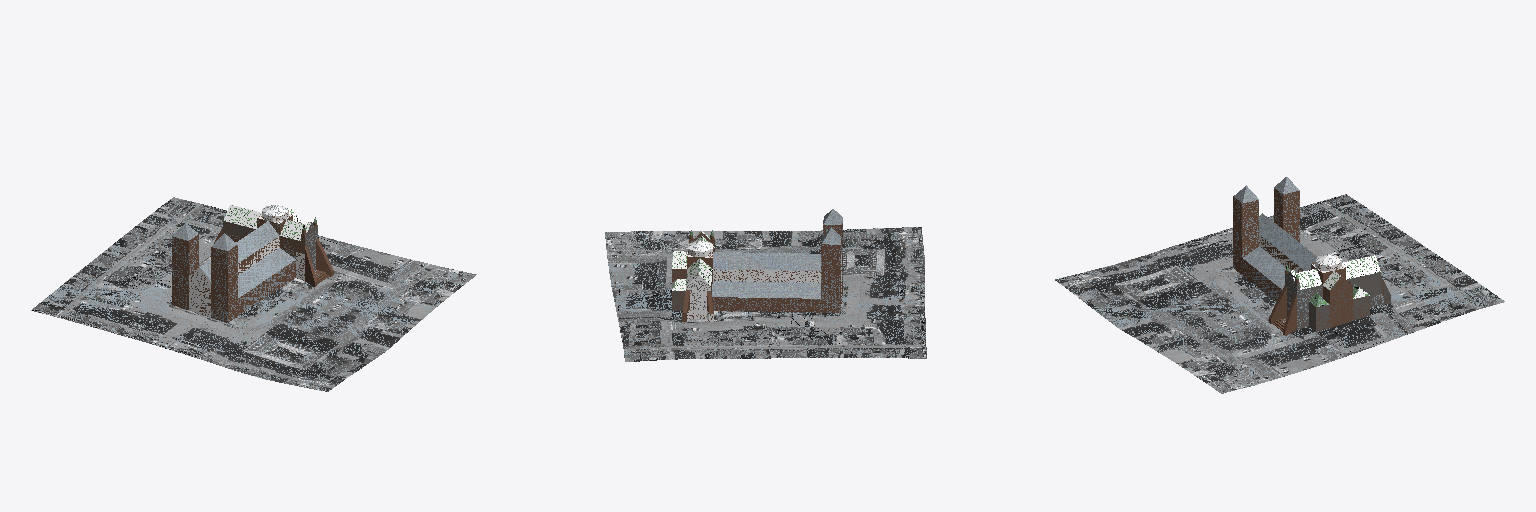
The picture shows the model from 3 angles: view 1: azimuth 30°, elevation 25°; view 2: azimuth 150°, elevation 25°; view 3: azimuth 270°, elevation 25°; orthographic projection.
Visible parts, largest first — view 1: Mesh16 Sol Model, Mesh5 Nef_romane Model, Mesh8 Group1 Transept_roman Model, Mesh1 Tours_Romanes Model, Mesh2 Tours_Romanes Model; view 2: Mesh16 Sol Model, Mesh5 Nef_romane Model, Mesh8 Group1 Transept_roman Model, Mesh1 Tours_Romanes Model; view 3: Mesh16 Sol Model, Mesh8 Group1 Transept_roman Model, Mesh5 Nef_romane Model, Mesh1 Tours_Romanes Model, Mesh2 Tours_Romanes Model.
Boxes of the visible parts, box(x1,y1,x2,y2) form: Mesh16 Sol Model: box(31, 197, 476, 391); Mesh5 Nef_romane Model: box(172, 221, 295, 322); Mesh8 Group1 Transept_roman Model: box(214, 205, 333, 286); Mesh1 Tours_Romanes Model: box(172, 223, 198, 257); Mesh2 Tours_Romanes Model: box(211, 233, 237, 268); Mesh16 Sol Model: box(605, 227, 926, 361); Mesh5 Nef_romane Model: box(712, 241, 842, 312); Mesh8 Group1 Transept_roman Model: box(672, 231, 714, 321); Mesh1 Tours_Romanes Model: box(821, 228, 840, 261); Mesh16 Sol Model: box(1055, 194, 1504, 393); Mesh8 Group1 Transept_roman Model: box(1269, 255, 1390, 335); Mesh5 Nef_romane Model: box(1233, 205, 1316, 301); Mesh1 Tours_Romanes Model: box(1274, 177, 1299, 211); Mesh2 Tours_Romanes Model: box(1233, 185, 1258, 220).
Bounding box in the file's own units: 284 × 66.6 × 289.
Materials: 8 (3 with a texture image).